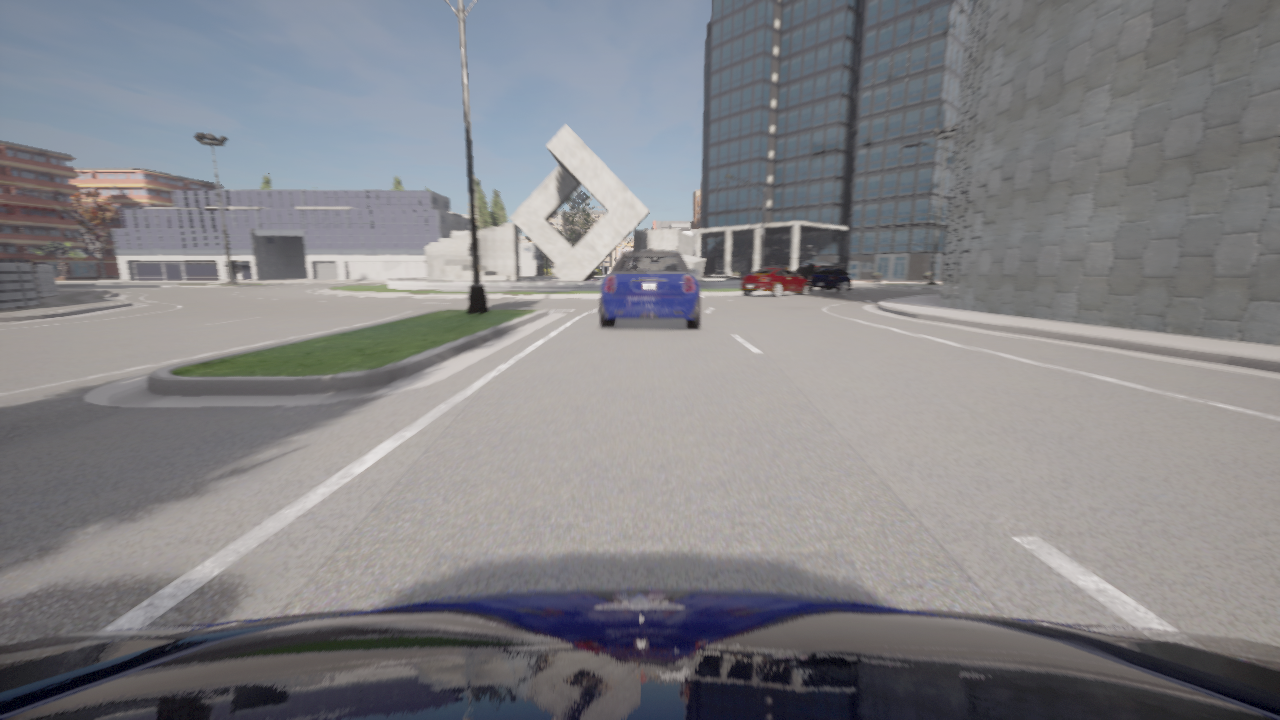cyclist: (0, 588, 1279, 719), (600, 244, 700, 328), (740, 267, 810, 297), (809, 267, 852, 292), (795, 261, 842, 279), (705, 269, 740, 277)
